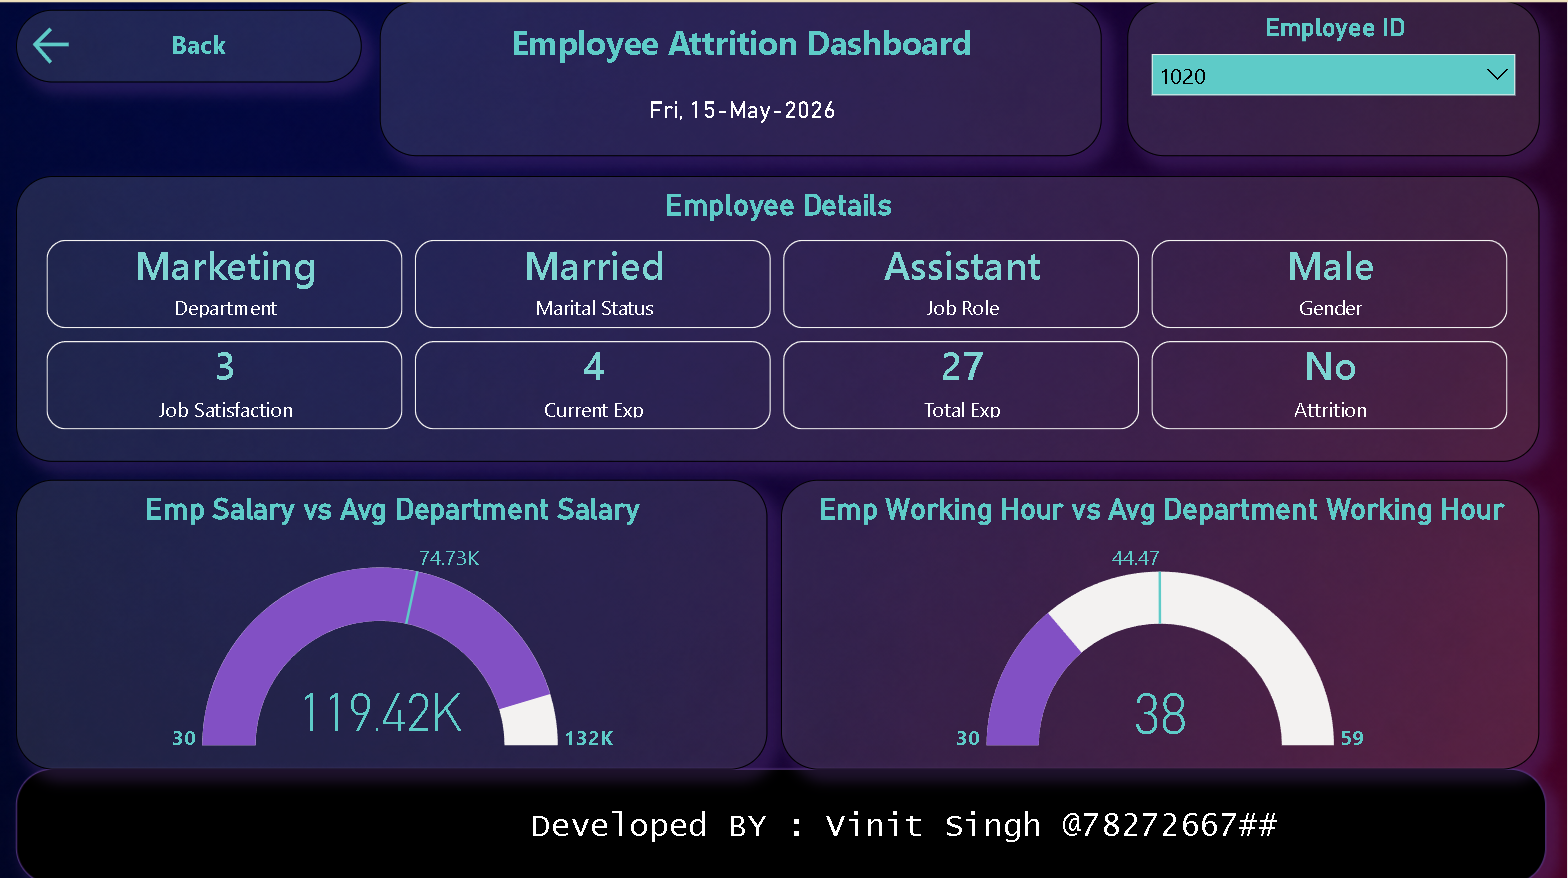

The dashboard page shown, as its layout file describes it:
{"tool":"powerbi","page":{"name":"Emp_Details","canvas":[1280,720],"ordinal":1},"visuals":[{"type":"textbox","box":[309.3,0,596.5,126.7],"z":0},{"type":"cardVisual","title":"Employee Details","fields":{"Data":["emp_attrition.edept","emp_attrition.emarital_status","emp_attrition.erole","emp_attrition.egender","emp_attrition.job_satisfaction_emp","emp_attrition.ecurr_exp","emp_attrition.etotal_exp","emp_attrition.estill_is"]},"box":[16.3,143,1240.7,232.6],"z":1000},{"type":"card","title":"Date","fields":{"Values":["emp_attrition.curr_date"]},"box":[472.1,64,270.9,50],"z":2000},{"type":"ScrollingTextVisual1448795304508","fields":{"Category":["emp_attrition.Marital_Status"],"Measure Absolute":["emp_attrition.att_rate"]},"box":[16.3,625.6,1246.5,94.2],"z":3000},{"type":"actionButton","box":[16.3,7,281.4,59.3],"z":4000},{"type":"slicer","title":"Employee ID","fields":{"Values":["emp_id_para.EmpID_text"]},"box":[920.9,0,336,126.7],"z":5000},{"type":"gauge","title":"Emp Salary vs Avg Department Salary","fields":{"MaxValue":["emp_attrition.max_sal_dept"],"MinValue":["emp_attrition.min_sal_dept"],"TargetValue":["emp_attrition.Dept Avg Salary"],"Y":["emp_attrition.esal"]},"box":[16.3,389.5,611.6,236],"z":6000},{"type":"gauge","title":"Emp Working Hour vs Avg Department Working Hour","fields":{"MaxValue":["Max(emp_attrition.Average_Hours_Worked_Per_Week)"],"MinValue":["Min(emp_attrition.Average_Hours_Worked_Per_Week)"],"TargetValue":["emp_attrition.avg_dept_hour"],"Y":["emp_attrition.emp_hour"]},"box":[639.5,389.5,617.4,236],"z":7000}]}

Visuals, with their boxes in screenshot pixels (x1, y1, x2, y2), scaled from the page's 1280x720 canvas onto the 1568x878 screenshot:
textbox: x1=379 y1=0 x2=1110 y2=155
"Employee Details" cardVisual: x1=20 y1=174 x2=1540 y2=458
"Date" card: x1=578 y1=78 x2=910 y2=139
ScrollingTextVisual1448795304508 - emp_attrition.Marital_Status x emp_attrition.att_rate: x1=20 y1=763 x2=1547 y2=877
actionButton: x1=20 y1=9 x2=365 y2=81
"Employee ID" slicer: x1=1128 y1=0 x2=1540 y2=155
"Emp Salary vs Avg Department Salary" gauge: x1=20 y1=475 x2=769 y2=763
"Emp Working Hour vs Avg Department Working Hour" gauge: x1=783 y1=475 x2=1540 y2=763
